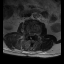CCS_severe_stenosis: (30, 31, 32, 37)
LFS_stenosis: (34, 30, 36, 37)
LLS_normal: (32, 30, 34, 37)
RFS_stenosis: (26, 29, 28, 35)
RLS_normal: (28, 30, 30, 37)
